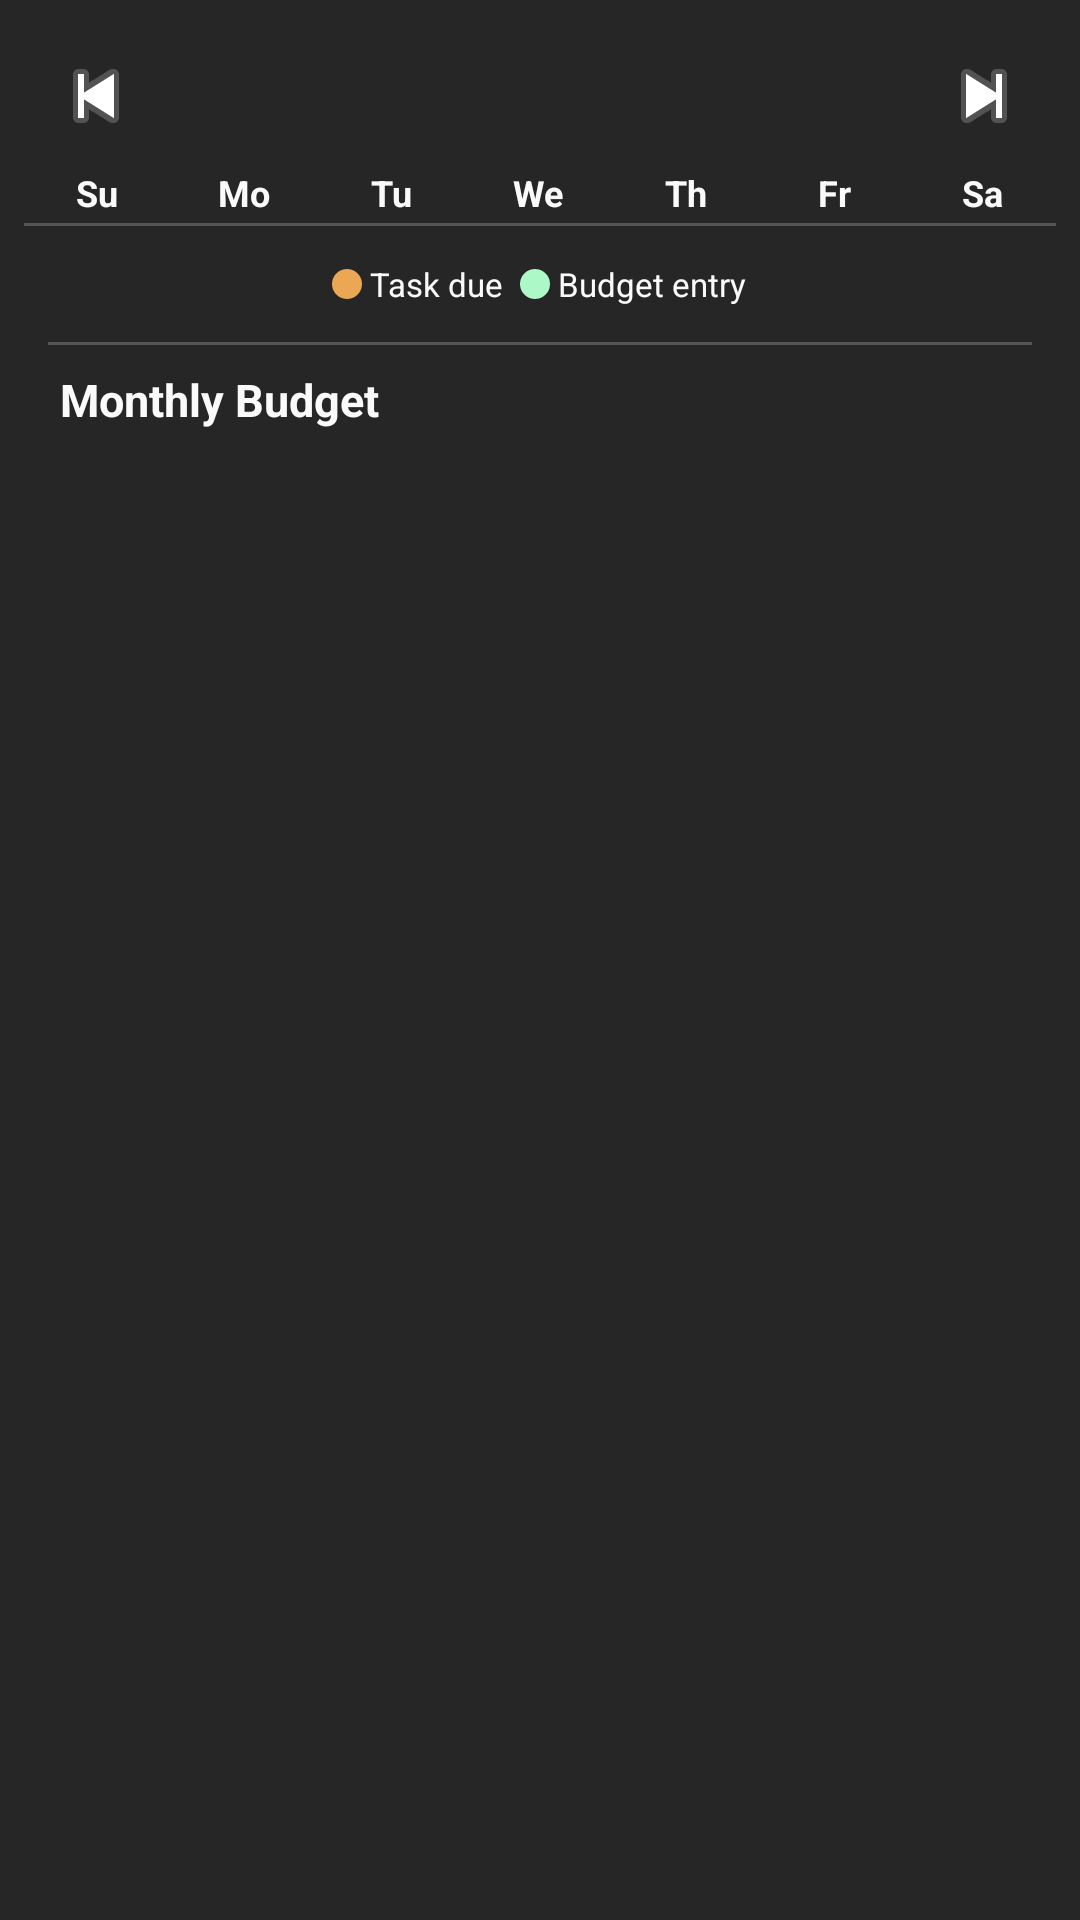

Where to tap for icons on this 1080×1920 app screen, as (x=x, y=y):
Next month: (x=984, y=96)
Previous month: (x=96, y=96)
